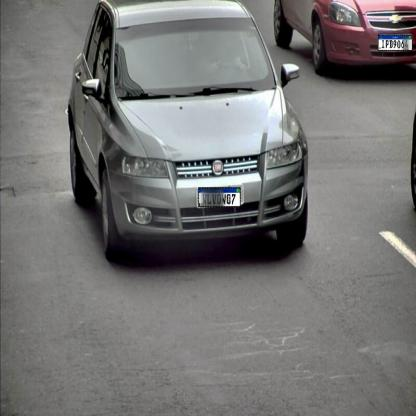PlacaM: (198, 187, 241, 208), (378, 34, 412, 50)
